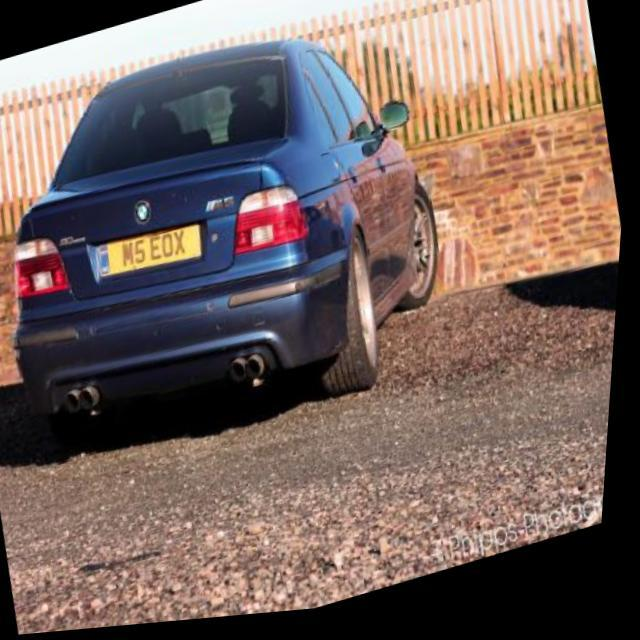license_plate: (97, 218, 210, 289)
